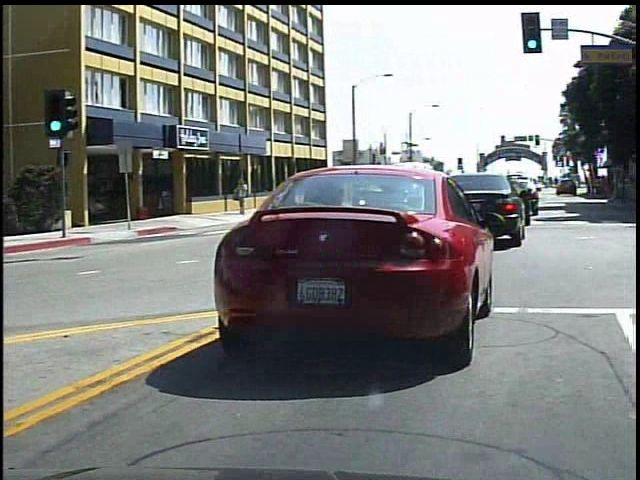person: (237, 174, 256, 218)
